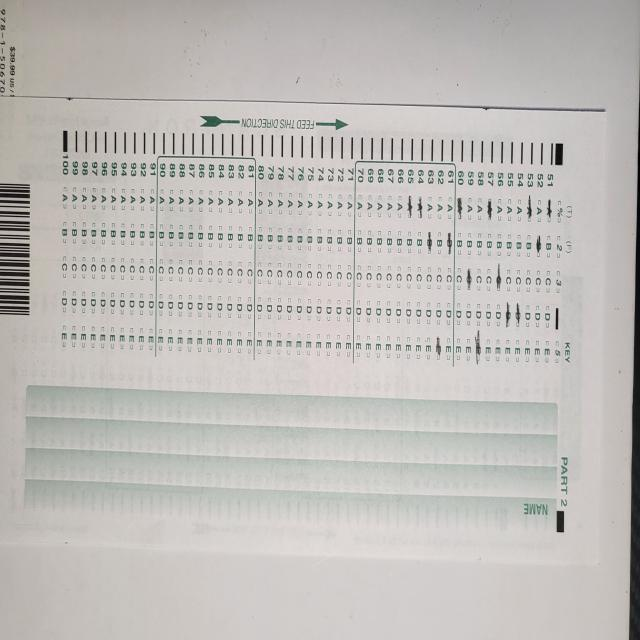scantron_back: (2, 96, 608, 567)
